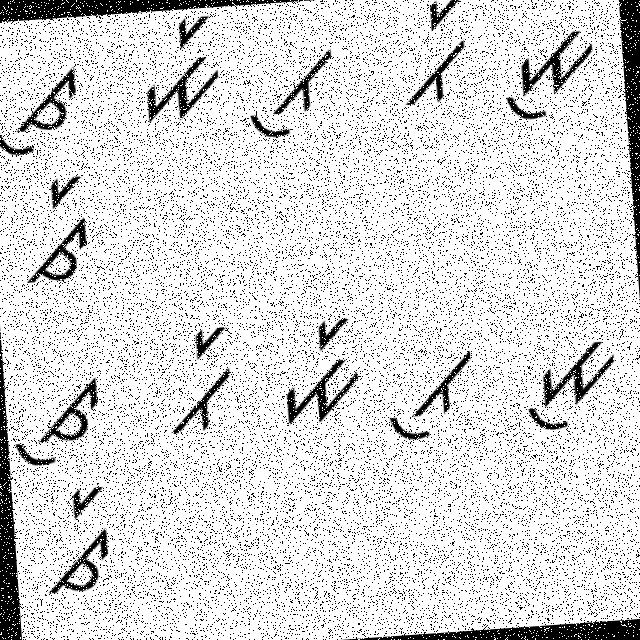bar: (150, 321, 239, 445), (383, 0, 477, 112)
baw: (382, 331, 479, 448), (241, 34, 343, 143)
car: (13, 169, 104, 292), (35, 476, 117, 598)
caw: (10, 368, 111, 471), (0, 54, 87, 167)
mar: (264, 308, 368, 434), (122, 7, 225, 126)
maw: (517, 321, 624, 441), (496, 12, 598, 135)
